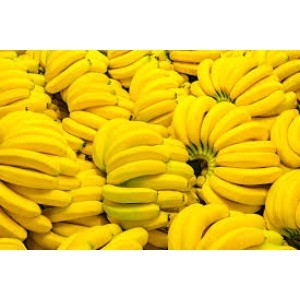banana_brain food: (179, 97, 282, 197), (8, 125, 81, 216)
